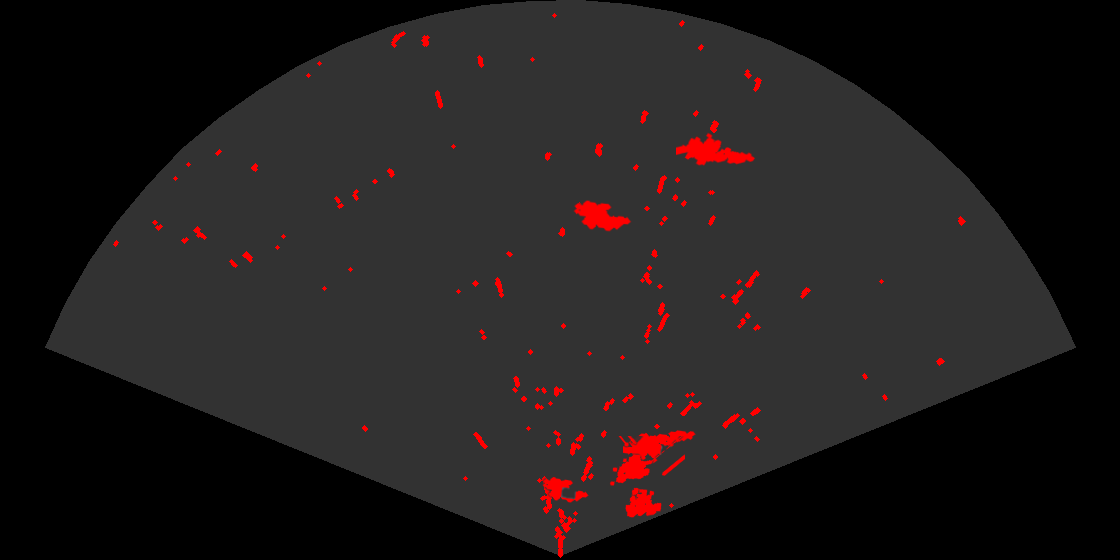AUV: (572, 199, 633, 233), (541, 475, 590, 504)
cage: (608, 436, 685, 519)
frogman: (676, 131, 756, 167), (623, 429, 696, 465)
